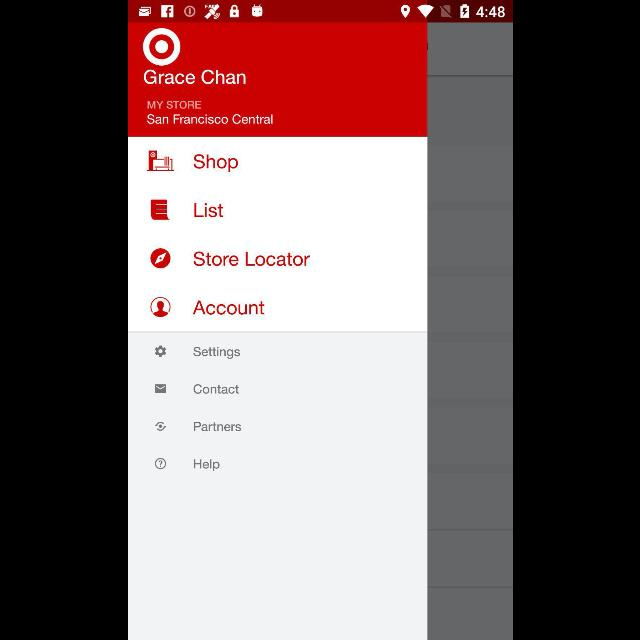icon: (150, 297, 170, 317), (150, 249, 170, 269), (150, 200, 170, 220), (154, 458, 166, 470), (154, 345, 166, 357), (154, 384, 166, 394)
image: (146, 150, 174, 172), (154, 422, 166, 431)
panel: (128, 23, 426, 639)
text: (193, 252, 309, 266), (146, 114, 272, 126), (143, 70, 245, 84), (192, 300, 264, 316), (192, 154, 238, 172), (192, 346, 240, 359), (193, 422, 241, 432), (192, 384, 238, 394), (194, 202, 222, 218), (147, 101, 201, 109), (193, 459, 219, 471)
uppertaskbar: (128, 1, 512, 23)
